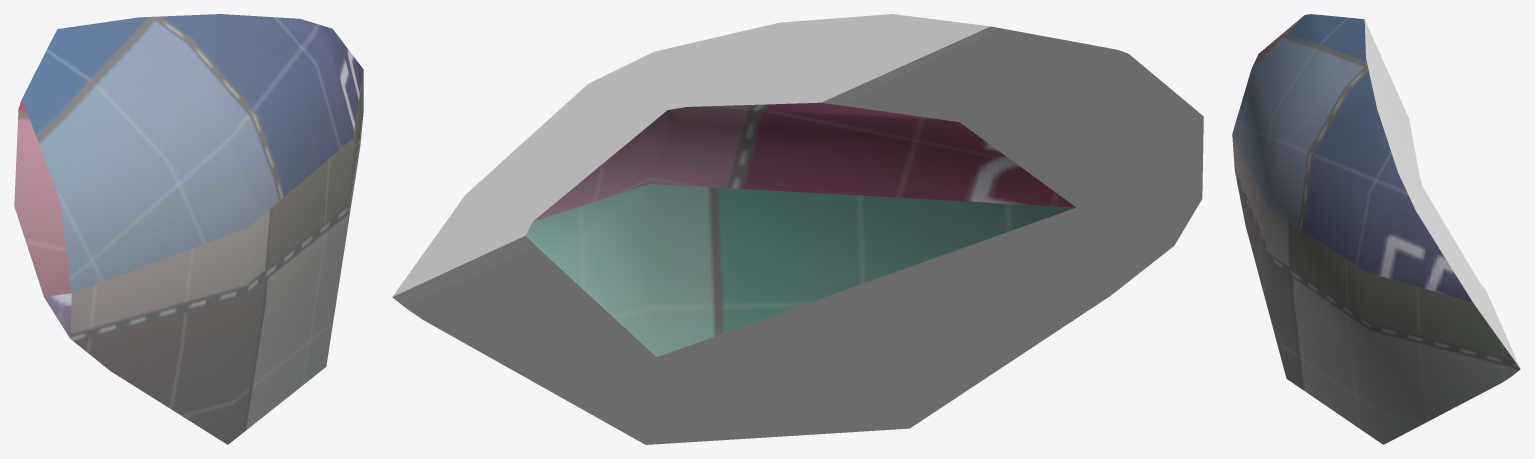
The model's file is MediumUrn_SHAT_cell_011.fbx.
3 views of the same model, side by side, from view 1: azimuth 30°, elevation 25°; view 2: azimuth 150°, elevation 25°; view 3: azimuth 270°, elevation 25° (orthographic). The views are drawn at different scales.
Visible parts, largest first — view 1: MediumUrn_SHAT_cell_011; view 2: MediumUrn_SHAT_cell_011; view 3: MediumUrn_SHAT_cell_011.
Part boxes in pixels (x1=…): MediumUrn_SHAT_cell_011: x1=14, y1=14, x2=363, y2=444; MediumUrn_SHAT_cell_011: x1=392, y1=14, x2=1203, y2=444; MediumUrn_SHAT_cell_011: x1=1232, y1=14, x2=1520, y2=444.
Bounding box in the file's own units: 0.5628 × 0.4299 × 0.3512.
Materials: 2 (1 with a texture image).
